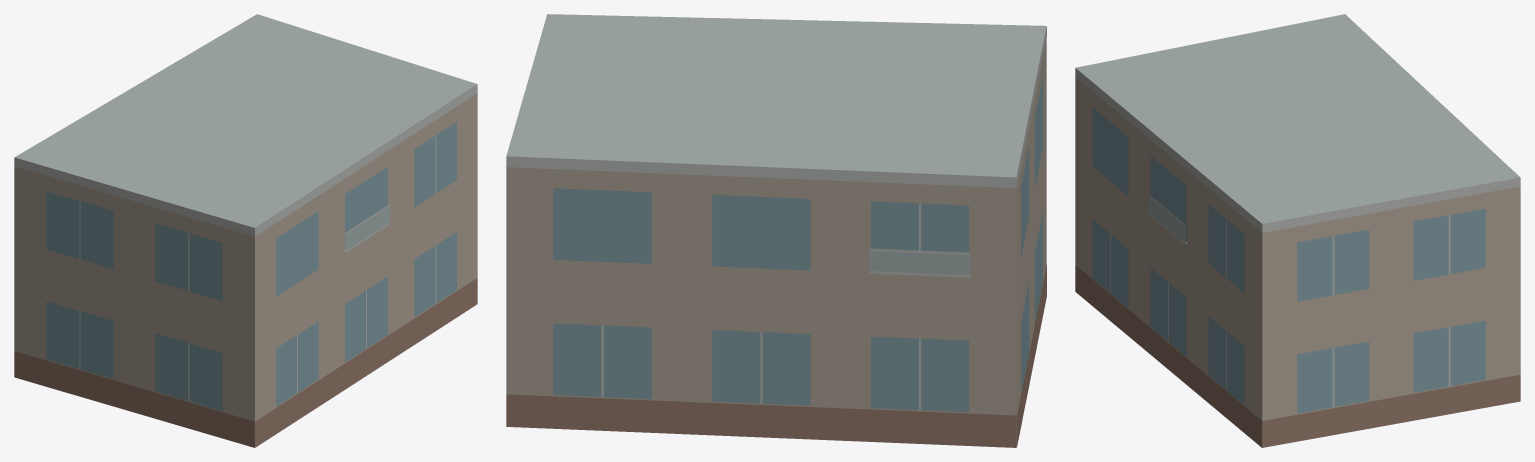
Rendered from survey-upis-32929724.glb.
The picture shows the model from 3 angles, left to right: view 1: azimuth 30°, elevation 25°; view 2: azimuth 150°, elevation 25°; view 3: azimuth 270°, elevation 25°; orthographic projection. The views are drawn at different scales.
Parts seen in each view (by area): view 1: survey-upis-32929724.tmp; view 2: survey-upis-32929724.tmp; view 3: survey-upis-32929724.tmp.
Boxes of the visible parts, x1,y1,x2,y2 form: survey-upis-32929724.tmp: (14,14,477,447); survey-upis-32929724.tmp: (506,14,1046,447); survey-upis-32929724.tmp: (1075,14,1520,447).
Size of the model in its own units: 12.28 by 6.1 by 11.
